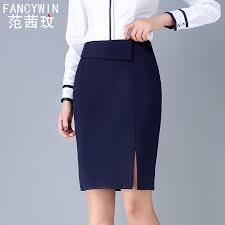F_tailored skirt: (67, 36, 167, 196)
